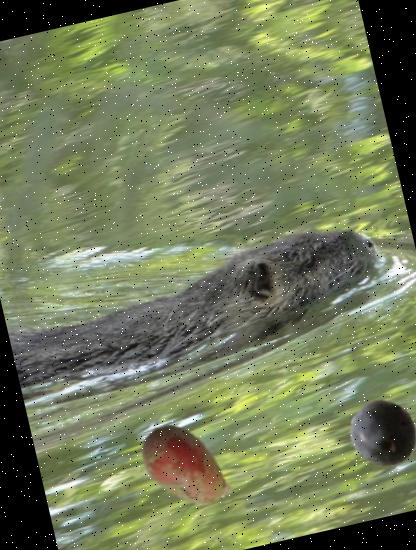Plum: (342, 391, 416, 474)
Potato: (122, 406, 247, 530)
